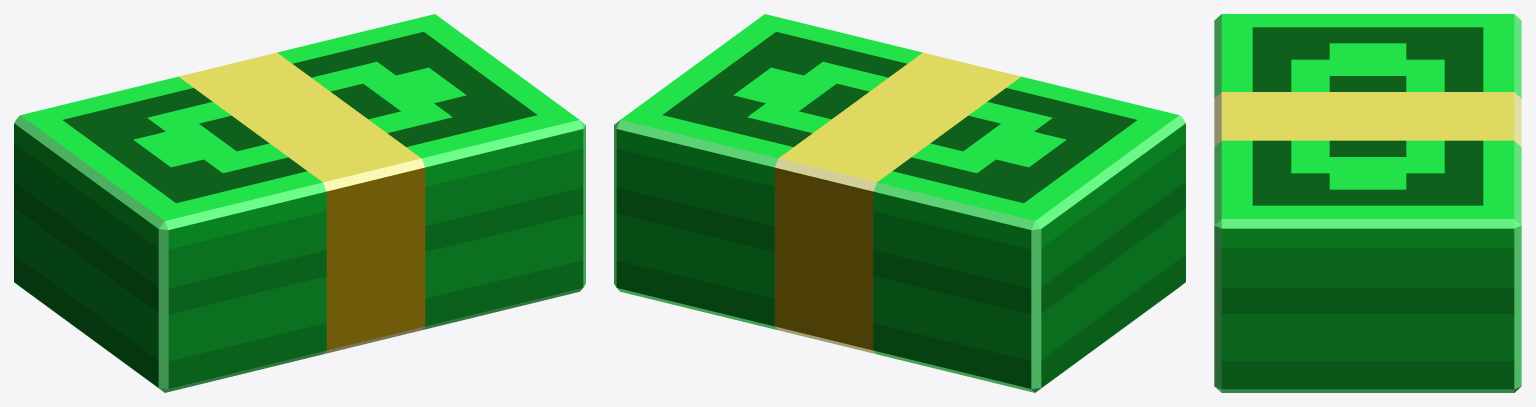
Rendered from CashGreen.fbx.
3 renders of one model, left to right at view 1: azimuth 30°, elevation 25°; view 2: azimuth 150°, elevation 25°; view 3: azimuth 270°, elevation 25°, orthographic.
Visible parts, largest first — view 1: CashGreen; view 2: CashGreen; view 3: CashGreen.
Part boxes in pixels (x1,y1,x2,y2): CashGreen: (14, 14, 585, 392); CashGreen: (614, 14, 1185, 392); CashGreen: (1214, 14, 1521, 392).
Bounding box in the file's own units: 130 × 50 × 80.
